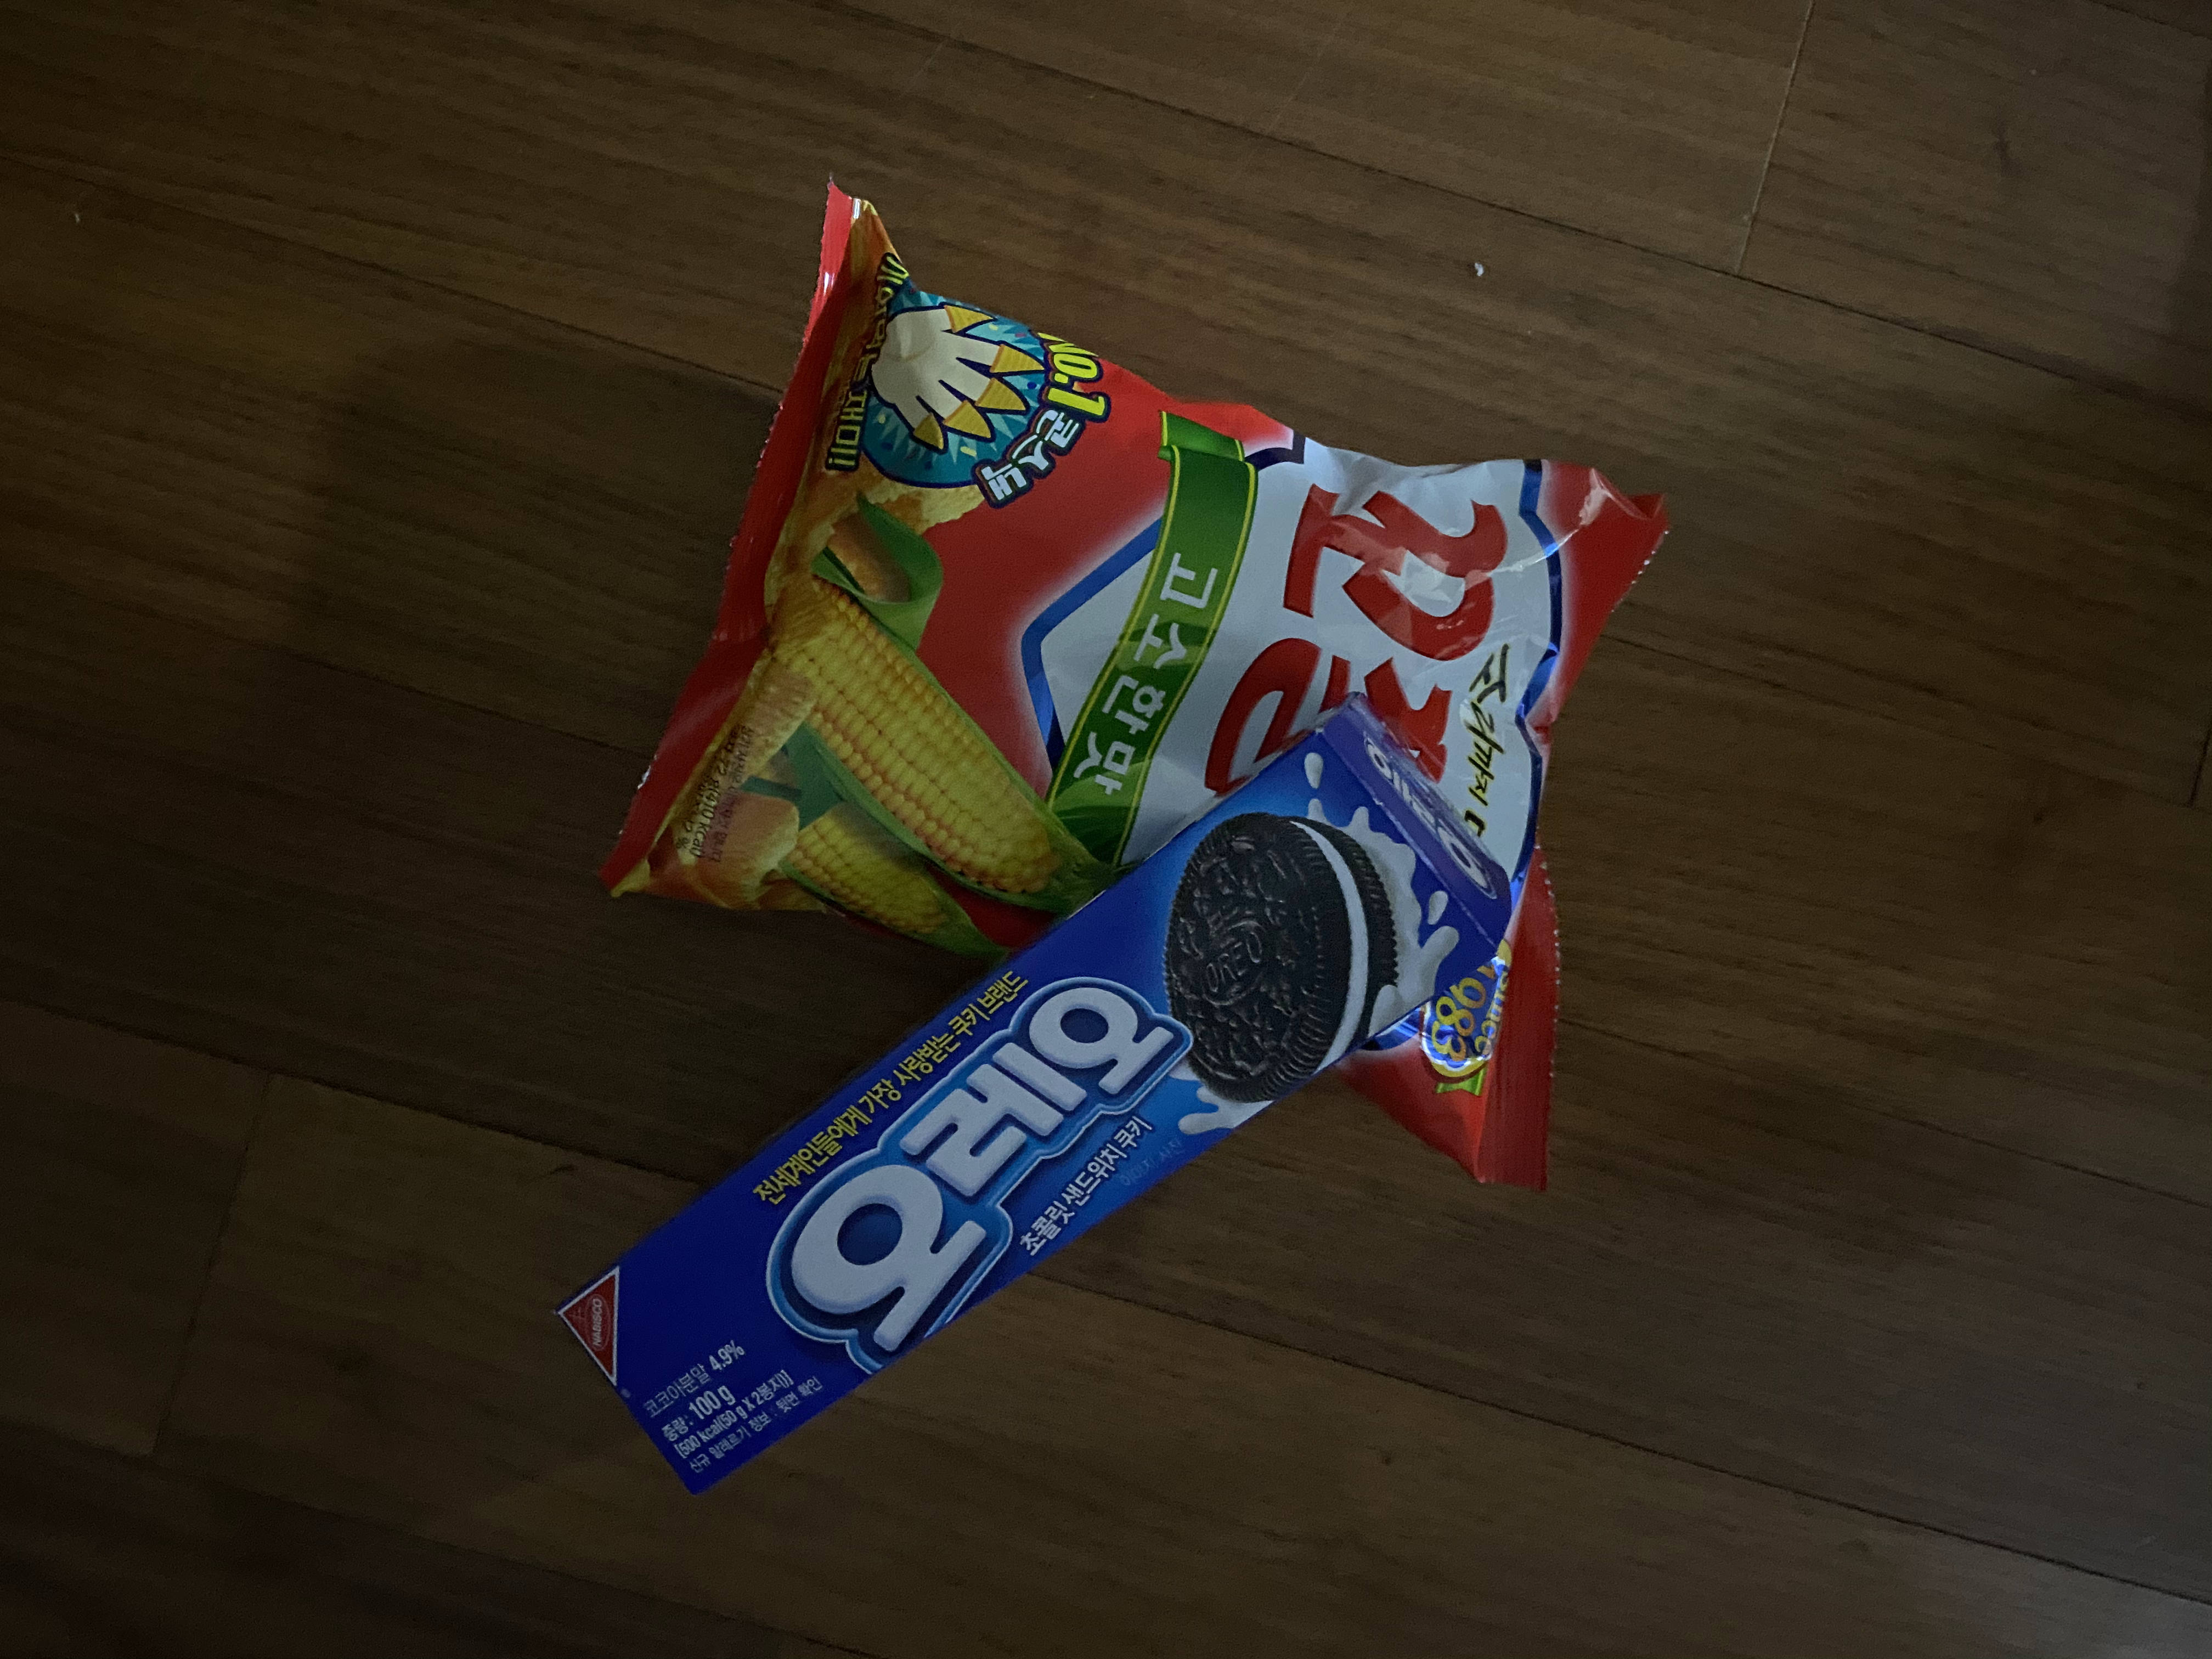ggoggalcon: (587, 153, 1679, 1208)
oreo: (533, 669, 1529, 1500)
